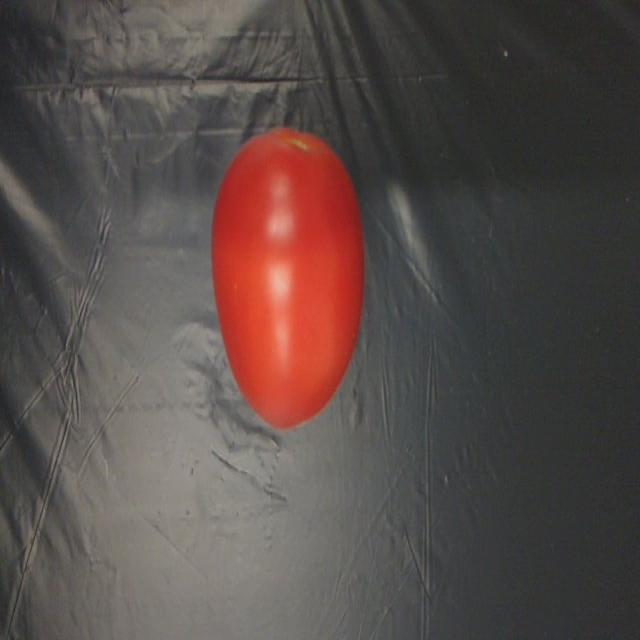kirmizi: (190, 112, 376, 434)
